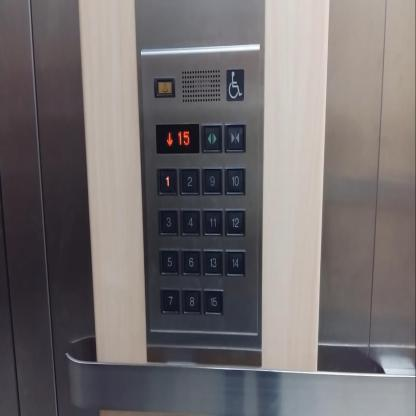1: (155, 164, 179, 195)
10: (224, 165, 246, 196)
11: (202, 206, 223, 238)
12: (224, 206, 246, 238)
13: (201, 246, 224, 277)
14: (223, 247, 246, 278)
15: (202, 287, 224, 315)
2: (178, 165, 200, 196)
3: (157, 206, 180, 237)
4: (179, 206, 201, 238)
5: (157, 245, 180, 276)
6: (179, 246, 202, 277)
7: (159, 285, 181, 314)
8: (181, 286, 202, 315)
9: (201, 164, 223, 196)
CH: (225, 66, 245, 102)
alarm: (152, 75, 176, 97)
close: (223, 122, 247, 153)
led: (154, 122, 201, 154)
open: (200, 122, 224, 154)
